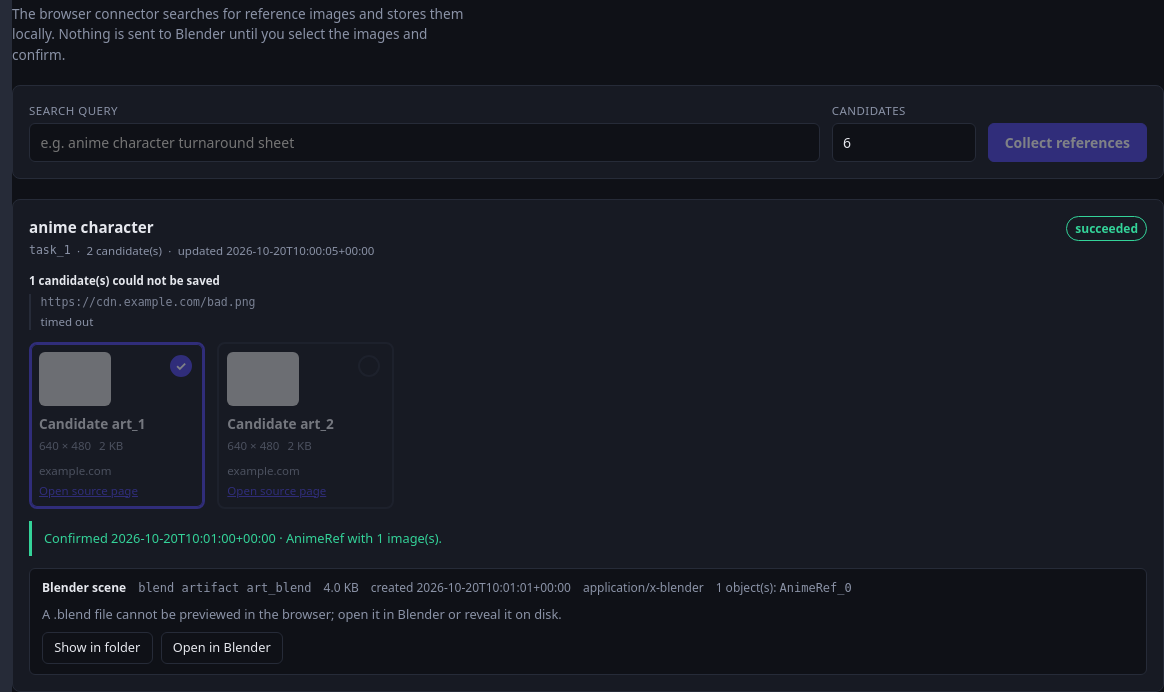
Test: ReferencesView › reports a refused open instead of pretending it worked
Click the button with test id "reveal-artifact" at [97, 648], box [42,632,152,664]
(page scrolled)
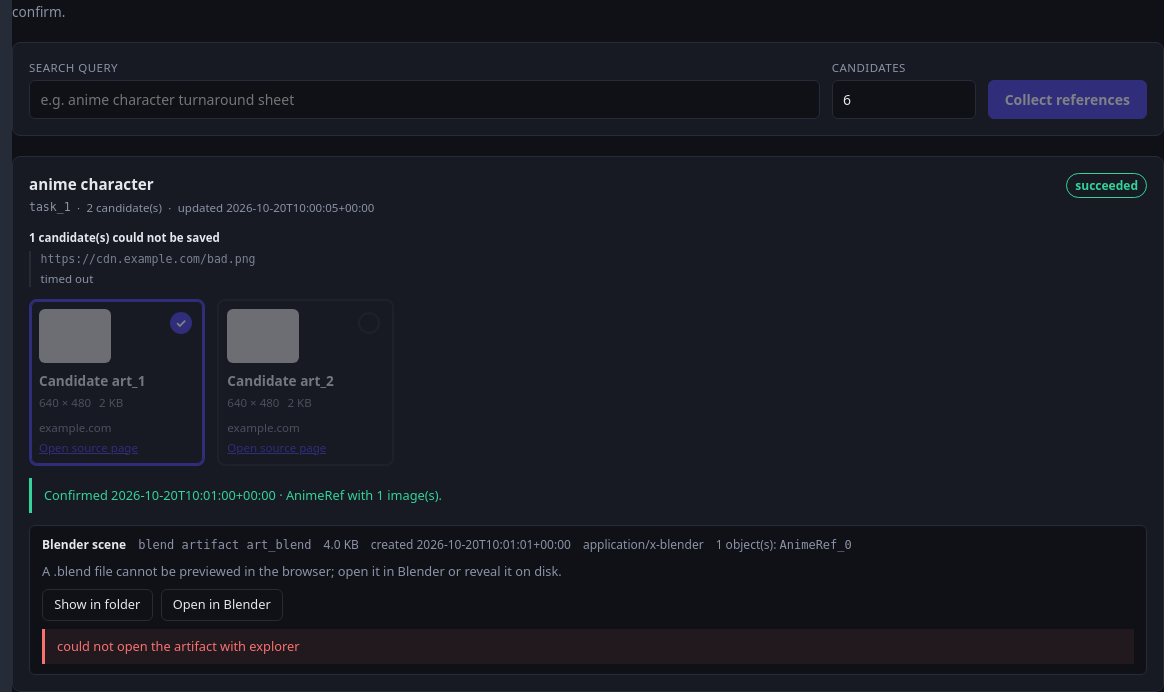
Expected: the message with test id "open-error" reads "could not open the artifact with explorer", [57,637,300,655]
